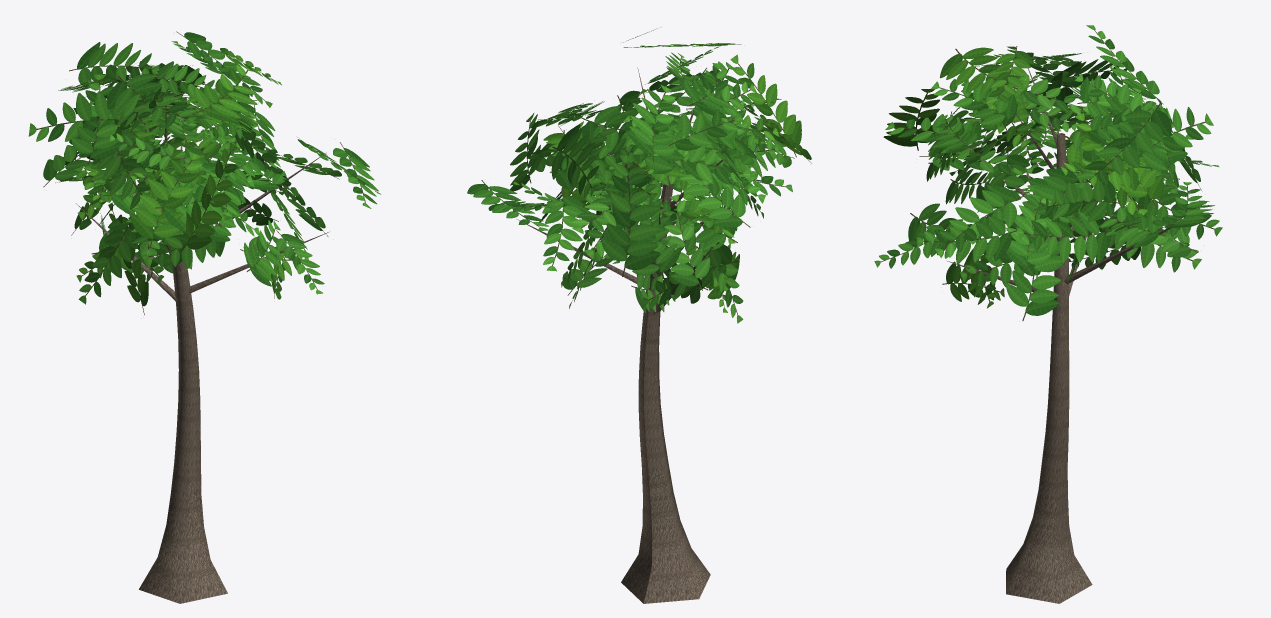
The model's file is copa_g_a_lo.glb.
3 renders of one model, left to right at view 1: azimuth 30°, elevation 25°; view 2: azimuth 150°, elevation 25°; view 3: azimuth 270°, elevation 25°, orthographic.
Parts seen in each view (by area): view 1: copa_g_a_lo; view 2: copa_g_a_lo; view 3: copa_g_a_lo.
Boxes of the visible parts, <box> form: copa_g_a_lo: <box>28,31,381,603</box>; copa_g_a_lo: <box>467,28,811,603</box>; copa_g_a_lo: <box>874,25,1222,603</box>.
Bounding box in the file's own units: 6.25 × 10.32 × 6.76.
Materials: 2 (2 with a texture image).
